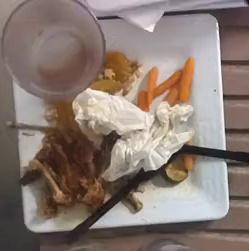carrots: (138, 56, 194, 112)
